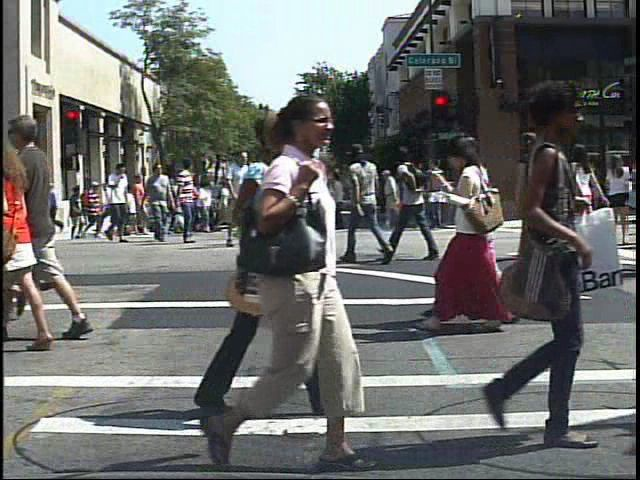person: (187, 82, 375, 479), (450, 79, 609, 462), (418, 130, 533, 344), (10, 101, 96, 343), (2, 126, 58, 351), (340, 135, 398, 272), (469, 128, 504, 343), (389, 140, 447, 266), (516, 128, 562, 262), (562, 137, 604, 261), (222, 146, 259, 251), (606, 147, 637, 243), (144, 158, 176, 245), (172, 157, 203, 246), (104, 161, 133, 245), (383, 164, 408, 236), (80, 179, 105, 243), (79, 183, 99, 229)
